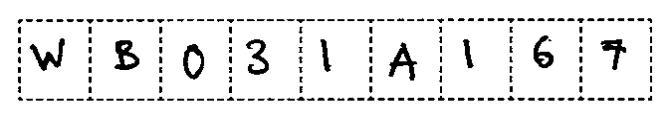0: (175, 38, 210, 84)
1: (309, 34, 344, 80), (451, 34, 485, 72)
3: (240, 34, 274, 80)
6: (524, 29, 562, 72)
7: (593, 32, 635, 79)
A: (382, 38, 421, 86)
B: (107, 34, 145, 76)
W: (23, 34, 71, 74)
